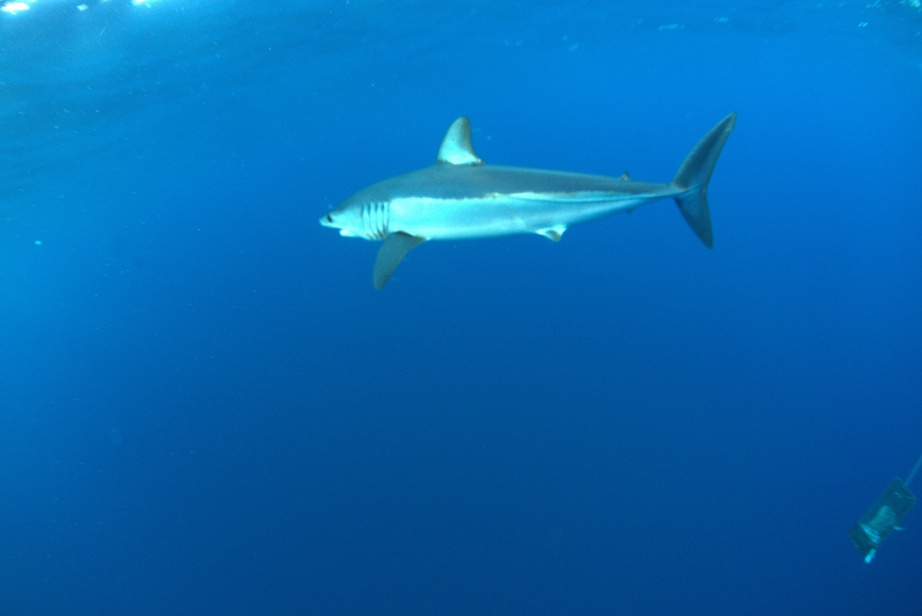Mako: (293, 102, 763, 305)
